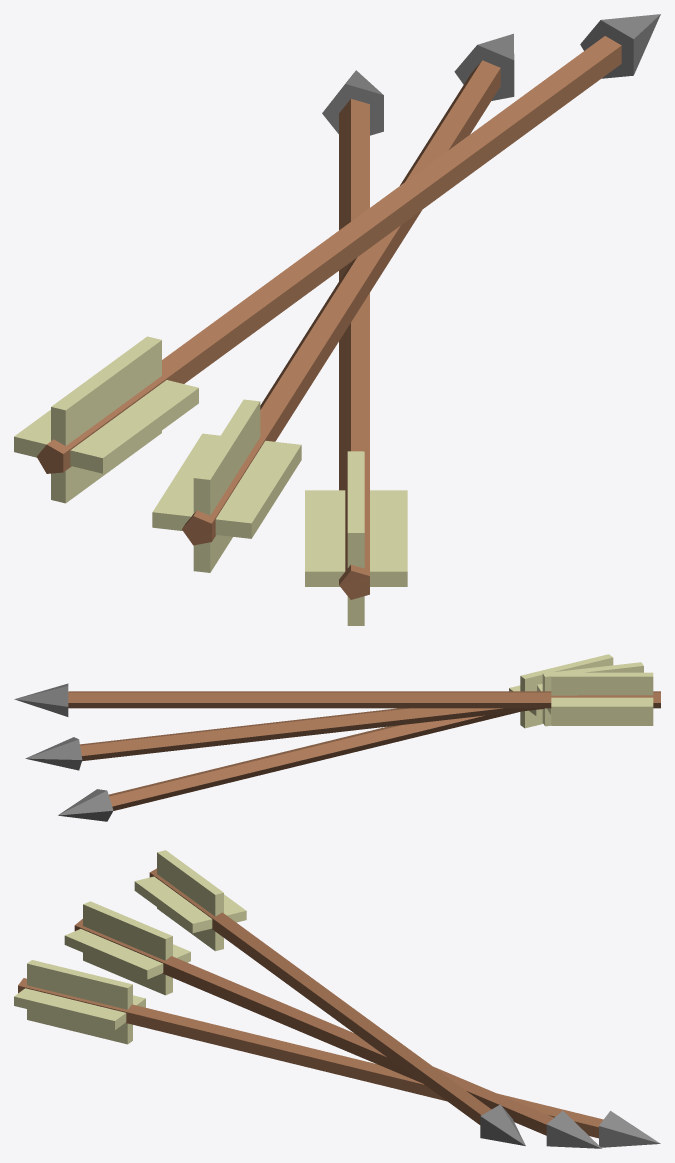
Rendered from ce_ammo2_arrow_stone_b.obj.
3 renders of one model, top to bottom at view 1: azimuth 30°, elevation 25°; view 2: azimuth 150°, elevation 25°; view 3: azimuth 270°, elevation 25°, orthographic. The views are drawn at different scales.
Parts seen in each view (by area): view 1: ce_ammo2_arrow_stone_b_8, ce_ammo2_arrow_stone_b_4, ce_ammo2_arrow_stone_b_0, ce_ammo2_arrow_stone_b_2, ce_ammo2_arrow_stone_b_6, ce_ammo2_arrow_stone_b_11, ce_ammo2_arrow_stone_b_10, ce_ammo2_arrow_stone_b_7, ce_ammo2_arrow_stone_b_3, ce_ammo2_arrow_stone_b_9, ce_ammo2_arrow_stone_b_5, ce_ammo2_arrow_stone_b_1; view 2: ce_ammo2_arrow_stone_b_8, ce_ammo2_arrow_stone_b_4, ce_ammo2_arrow_stone_b_0, ce_ammo2_arrow_stone_b_11, ce_ammo2_arrow_stone_b_10, ce_ammo2_arrow_stone_b_3, ce_ammo2_arrow_stone_b_1, ce_ammo2_arrow_stone_b_5, ce_ammo2_arrow_stone_b_9, ce_ammo2_arrow_stone_b_7; view 3: ce_ammo2_arrow_stone_b_0, ce_ammo2_arrow_stone_b_8, ce_ammo2_arrow_stone_b_4, ce_ammo2_arrow_stone_b_3, ce_ammo2_arrow_stone_b_7, ce_ammo2_arrow_stone_b_11, ce_ammo2_arrow_stone_b_2, ce_ammo2_arrow_stone_b_6, ce_ammo2_arrow_stone_b_10, ce_ammo2_arrow_stone_b_1, ce_ammo2_arrow_stone_b_5, ce_ammo2_arrow_stone_b_9.
Part boxes in pixels (x1,y1,x2,y2): ce_ammo2_arrow_stone_b_8: (37,36,621,473); ce_ammo2_arrow_stone_b_4: (182,60,500,545); ce_ammo2_arrow_stone_b_0: (339,99,369,599); ce_ammo2_arrow_stone_b_2: (305,490,407,586); ce_ammo2_arrow_stone_b_6: (152,433,301,538); ce_ammo2_arrow_stone_b_11: (51,336,161,503); ce_ammo2_arrow_stone_b_10: (14,380,198,473); ce_ammo2_arrow_stone_b_7: (193,399,260,572); ce_ammo2_arrow_stone_b_3: (347,451,364,625); ce_ammo2_arrow_stone_b_9: (580,14,660,78); ce_ammo2_arrow_stone_b_5: (454,33,514,100); ce_ammo2_arrow_stone_b_1: (322,70,383,135); ce_ammo2_arrow_stone_b_8: (68,691,660,708); ce_ammo2_arrow_stone_b_4: (80,708,544,761); ce_ammo2_arrow_stone_b_0: (109,711,519,810); ce_ammo2_arrow_stone_b_11: (551,672,653,725); ce_ammo2_arrow_stone_b_10: (551,697,653,714); ce_ammo2_arrow_stone_b_3: (520,654,613,728); ce_ammo2_arrow_stone_b_1: (58,789,113,821); ce_ammo2_arrow_stone_b_5: (25,737,82,770); ce_ammo2_arrow_stone_b_9: (14,683,68,716); ce_ammo2_arrow_stone_b_7: (542,662,643,726); ce_ammo2_arrow_stone_b_0: (18,978,603,1138); ce_ammo2_arrow_stone_b_8: (149,868,491,1124); ce_ammo2_arrow_stone_b_4: (74,919,553,1135); ce_ammo2_arrow_stone_b_3: (27,960,132,1044); ce_ammo2_arrow_stone_b_7: (83,901,172,995); ce_ammo2_arrow_stone_b_11: (157,850,223,951); ce_ammo2_arrow_stone_b_2: (14,988,145,1030); ce_ammo2_arrow_stone_b_6: (64,929,190,979); ce_ammo2_arrow_stone_b_10: (134,876,246,932); ce_ammo2_arrow_stone_b_1: (599,1111,660,1147); ce_ammo2_arrow_stone_b_5: (546,1111,601,1148); ce_ammo2_arrow_stone_b_9: (480,1104,525,1145).
Bounding box in the file's own units: 0.7498 × 0.142 × 0.7498.
